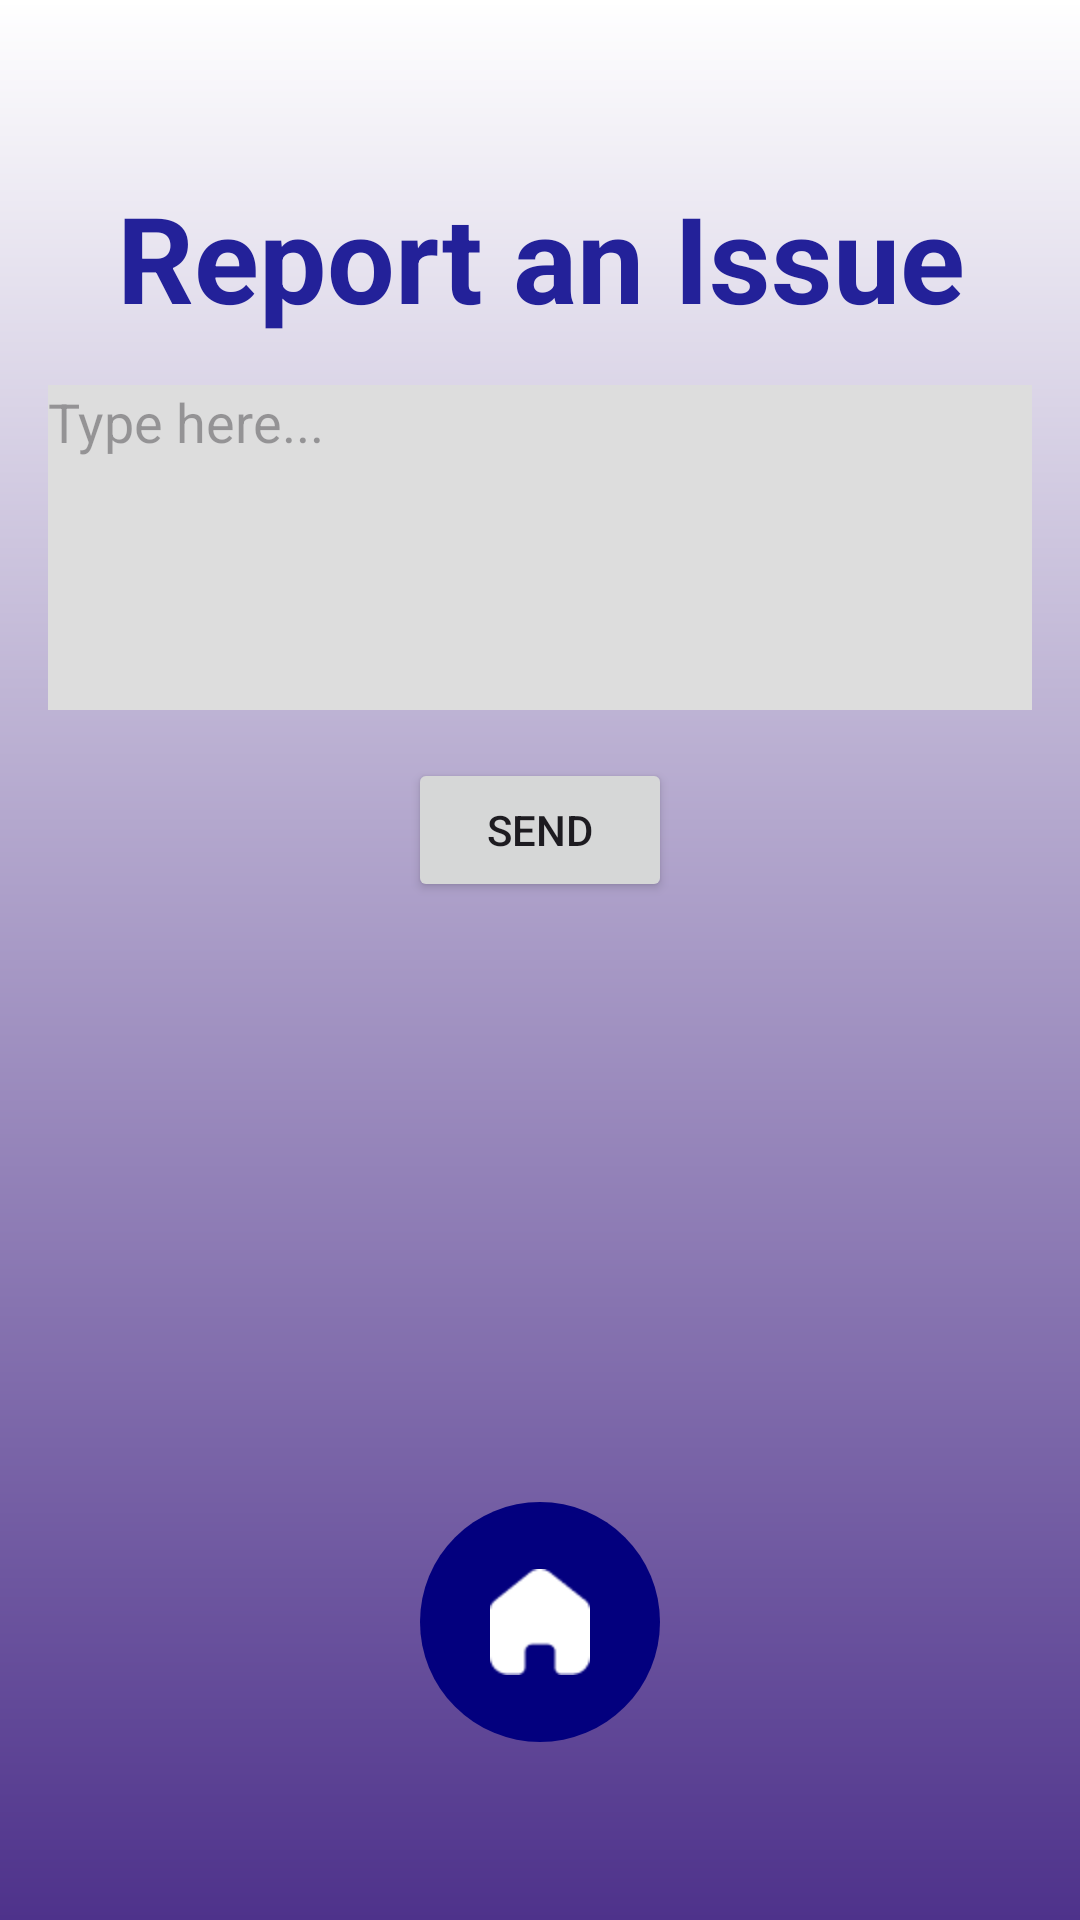

Where icons sit on this 1080 x 1920 app screen, as detection(x1, y1, x2, y2):
casuta: detection(420, 1502, 660, 1742)
